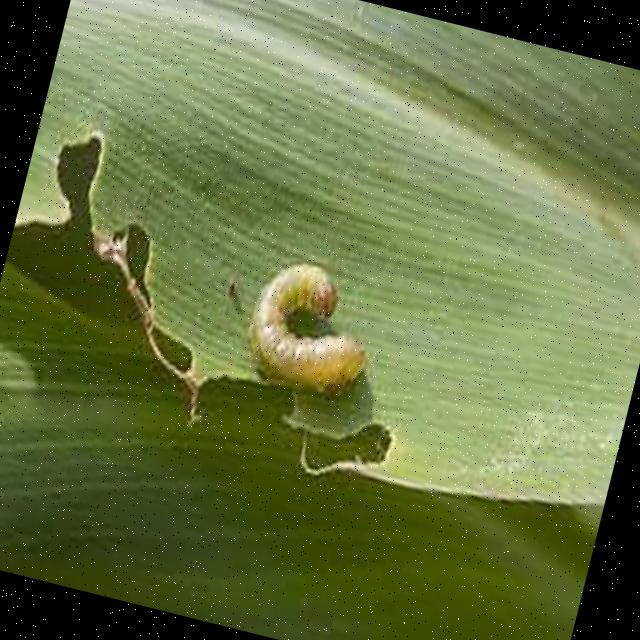worm: (235, 252, 387, 407)
